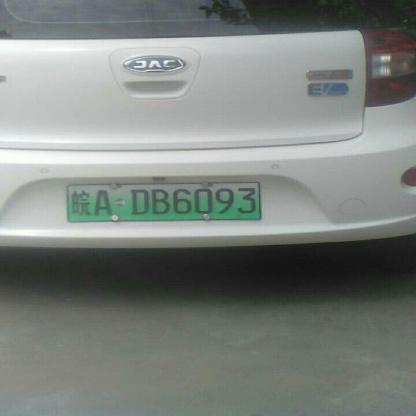lp: (70, 182, 260, 219)
